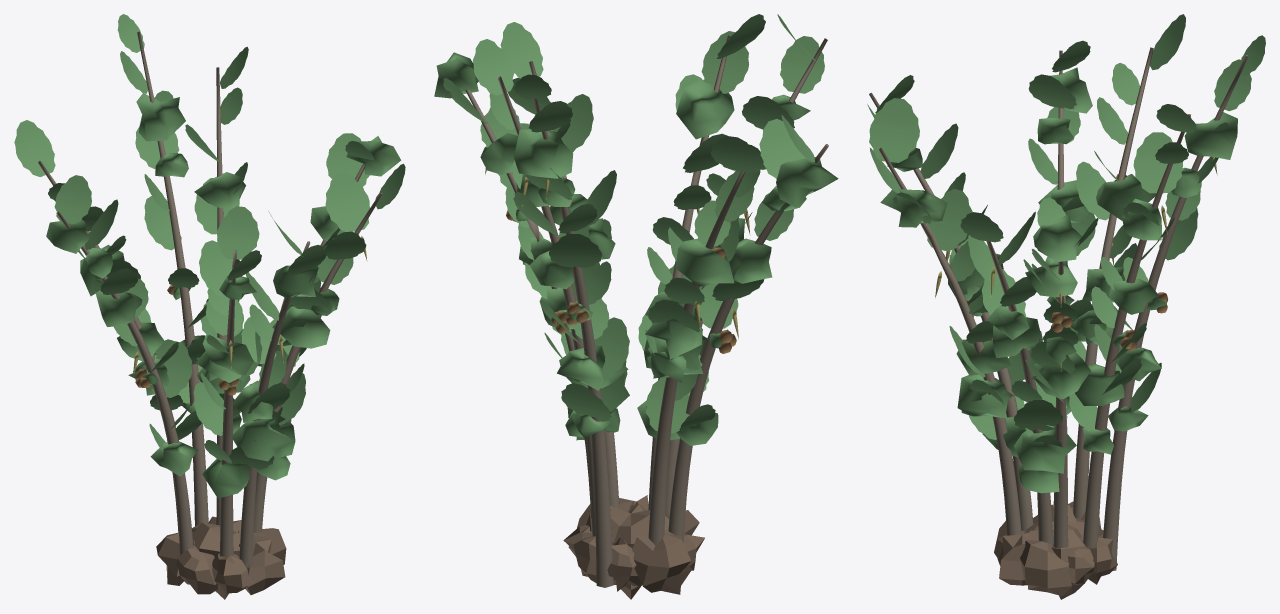
Rendered from hazel-coppice-v1.glb.
3 views of the same model, side by side, from view 1: azimuth 30°, elevation 25°; view 2: azimuth 150°, elevation 25°; view 3: azimuth 270°, elevation 25° (orthographic). The views are drawn at different scales.
Visible parts, largest first — view 1: foliage, poles, stool; view 2: foliage, poles, stool; view 3: foliage, poles, stool.
Boxes of the visible parts, <box> form: foliage: <box>14,14,405,498</box>; poles: <box>37,31,382,581</box>; stool: <box>156,516,286,599</box>; foliage: <box>434,14,838,445</box>; poles: <box>465,35,828,587</box>; stool: <box>563,495,704,599</box>; foliage: <box>867,14,1265,493</box>; poles: <box>869,47,1248,570</box>; stool: <box>994,501,1117,599</box>.
Bounding box in the file's own units: 1.23 × 1.76 × 1.16.
Materials: 4 (4 with a texture image).
